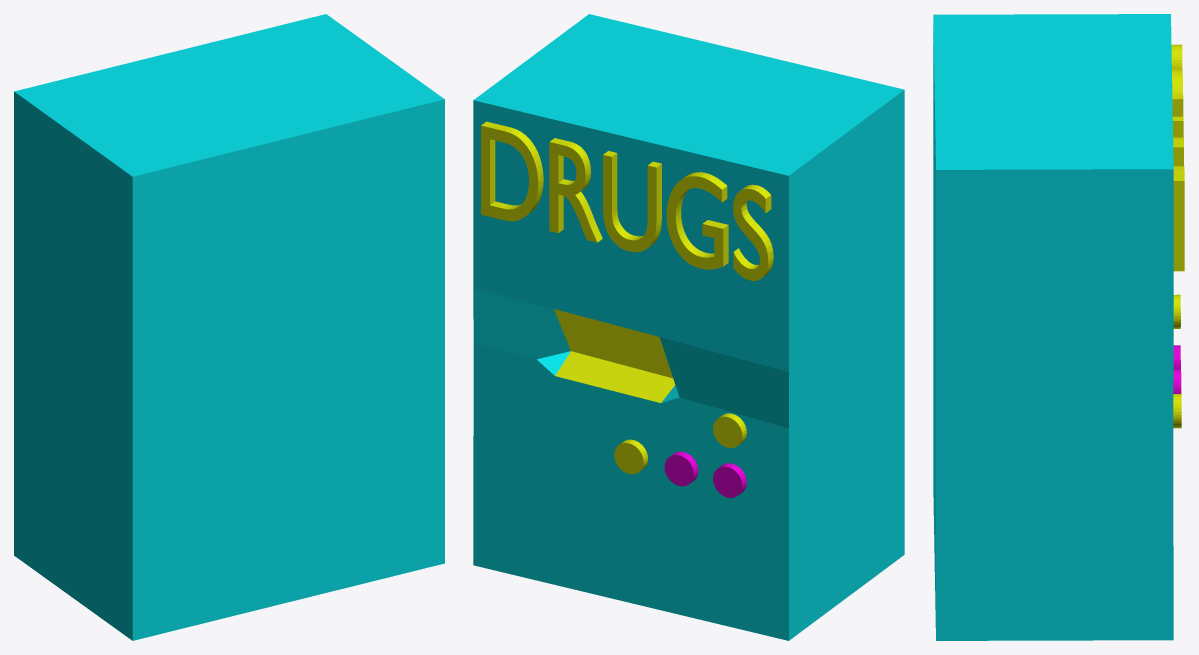
File: drug-machine.gltf
The picture shows the model from 3 angles, left to right: view 1: azimuth 30°, elevation 25°; view 2: azimuth 150°, elevation 25°; view 3: azimuth 270°, elevation 25°; orthographic projection.
Parts seen in each view (by area): view 1: Cube; view 2: Cube, Text, Cube.001, Cylinder.001, Cylinder, Cylinder.002, Cylinder.003; view 3: Cube, Text.
Boxes of the visible parts, x1=… form: Cube: x1=14, y1=14, x2=444, y2=640; Cube: x1=473, y1=14, x2=904, y2=640; Text: x1=481, y1=121, x2=773, y2=280; Cube.001: x1=554, y1=309, x2=675, y2=402; Cylinder.001: x1=664, y1=451, x2=698, y2=486; Cylinder: x1=713, y1=463, x2=746, y2=497; Cylinder.002: x1=614, y1=439, x2=647, y2=474; Cylinder.003: x1=713, y1=413, x2=746, y2=447; Cube: x1=933, y1=14, x2=1173, y2=640; Text: x1=1171, y1=44, x2=1184, y2=271.
Size of the model in its own units: 3.11 by 4.37 by 2.12.
